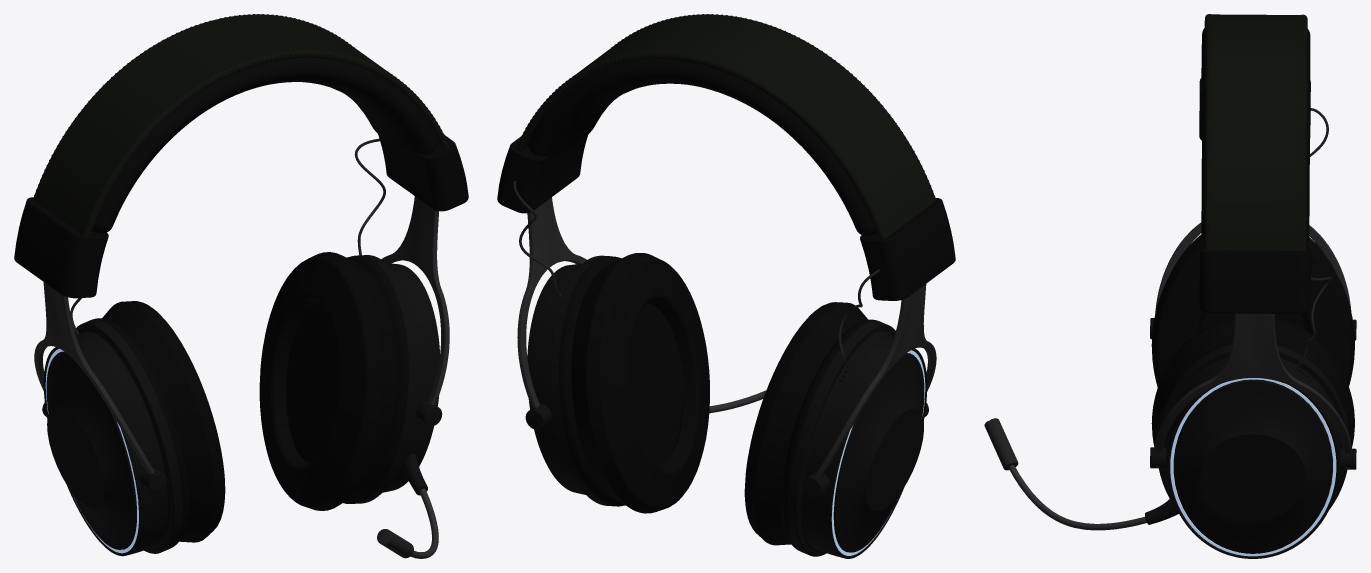
Rendered from Fone de ouvido.glb.
3 renders of one model, left to right at view 1: azimuth 30°, elevation 25°; view 2: azimuth 150°, elevation 25°; view 3: azimuth 270°, elevation 25°, orthographic. The views are drawn at different scales.
Parts seen in each view (by area): view 1: Object_2, Object_9; view 2: Object_2, Object_9; view 3: Object_2, Object_9.
Part boxes in pixels (x1,y1,x2,y2): Object_2: [14, 14, 468, 558]; Object_9: [45, 348, 138, 553]; Object_2: [497, 14, 955, 558]; Object_9: [831, 350, 925, 555]; Object_2: [984, 14, 1356, 558]; Object_9: [1170, 378, 1336, 556].
Size of the model in its own units: 17.1 by 19.48 by 14.07.
2 materials, 2 textured.
